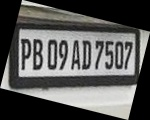character: (20, 38, 31, 70), (70, 39, 81, 70), (81, 40, 92, 69), (33, 39, 43, 70), (47, 39, 57, 70), (58, 39, 68, 70), (104, 40, 114, 69), (124, 40, 133, 70), (95, 40, 104, 69), (115, 40, 124, 69)
